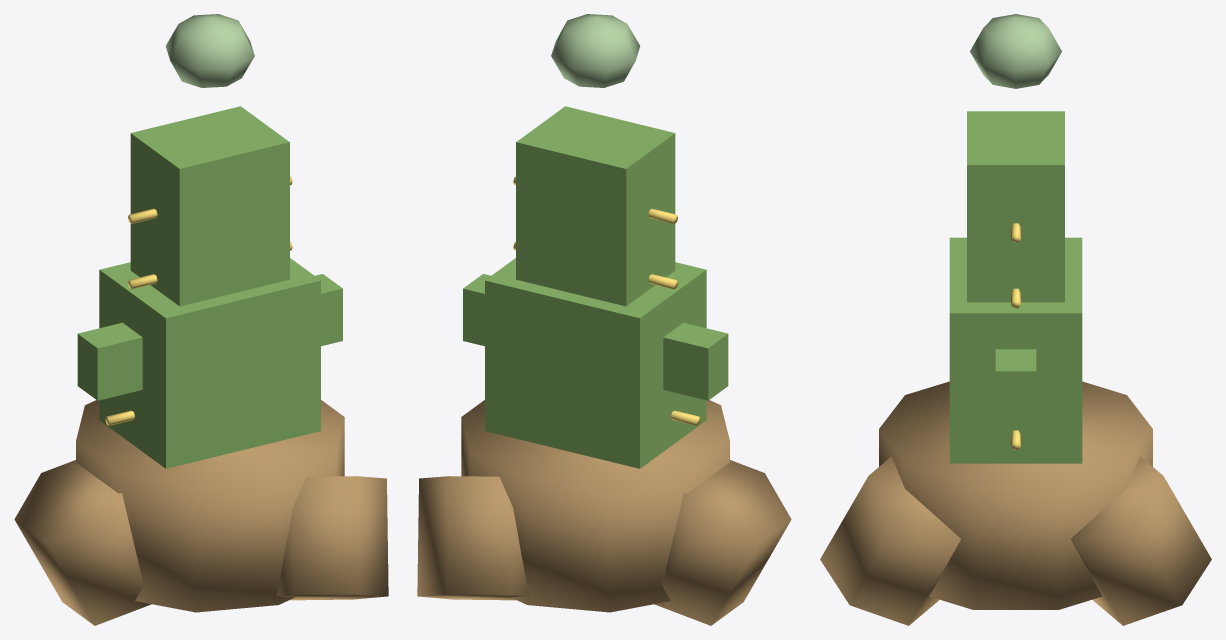
File: dune_cactus_grown.fbx
The picture shows the model from 3 angles, left to right: view 1: azimuth 30°, elevation 25°; view 2: azimuth 150°, elevation 25°; view 3: azimuth 270°, elevation 25°; orthographic projection.
Visible parts, largest first — view 1: PLQ_dune_cactus_grown; view 2: PLQ_dune_cactus_grown; view 3: PLQ_dune_cactus_grown.
Boxes of the visible parts, x1,y1,x2,y2 form: PLQ_dune_cactus_grown: (14,14,388,625); PLQ_dune_cactus_grown: (417,14,791,625); PLQ_dune_cactus_grown: (820,14,1211,625).
Bounding box in the file's own units: 58.9 × 105 × 66.2.
